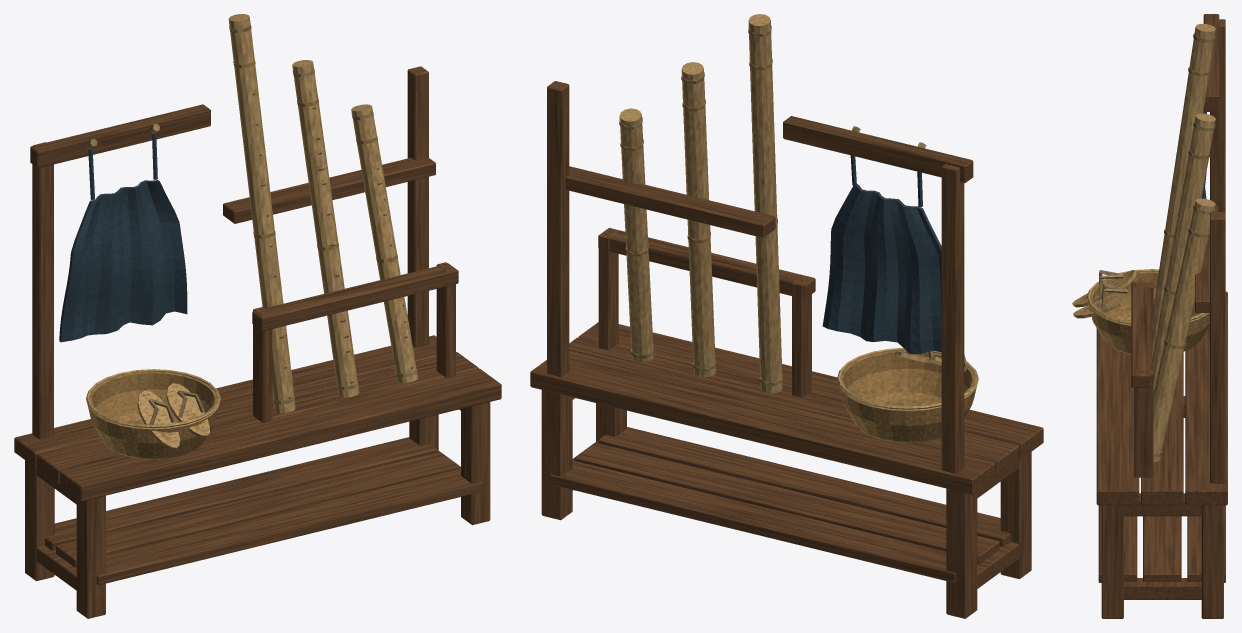
The model's file is CanalMeasuringStation_LOD0.fbx.
3 views of the same model, side by side, from view 1: azimuth 30°, elevation 25°; view 2: azimuth 150°, elevation 25°; view 3: azimuth 270°, elevation 25° (orthographic). The views are drawn at different scales.
Parts seen in each view (by area): view 1: CanalMeasuringStation; view 2: CanalMeasuringStation; view 3: CanalMeasuringStation.
Boxes of the visible parts, left/top/right/bottom form: CanalMeasuringStation: left=14, top=14, right=501, bottom=618; CanalMeasuringStation: left=530, top=14, right=1043, bottom=618; CanalMeasuringStation: left=1072, top=14, right=1227, bottom=618.
Bounding box in the file's own units: 1.65 × 1.93 × 0.5451.
1 material, 1 textured.
